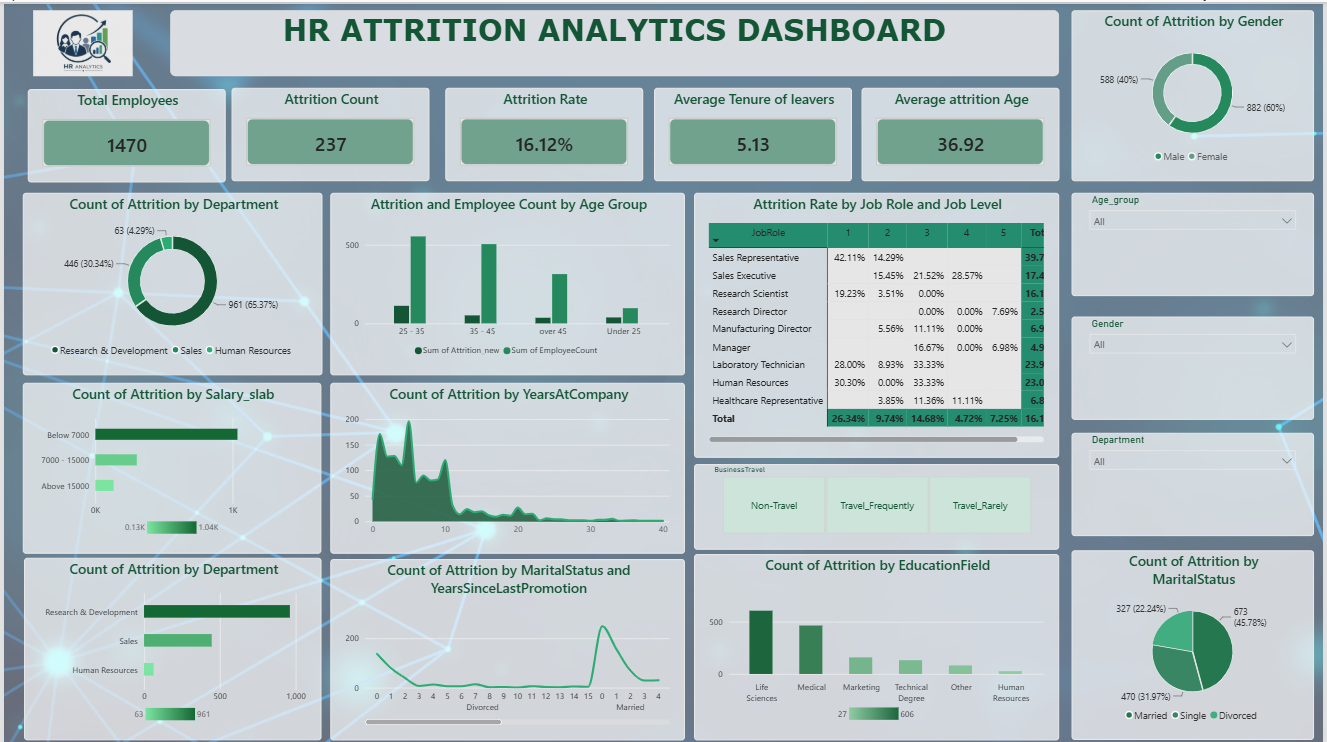

This screenshot's page, from the dashboard's own definition file:
{"tool":"powerbi","page":{"name":"Page 1","canvas":[1920,1080],"ordinal":0},"visuals":[{"type":"textbox","box":[241.8,9.1,1292.7,96.4],"z":0},{"type":"cardVisual","title":"Total Employees","fields":{"Data":["Sum(HR_Attrition.EmployeeCount)"]},"box":[35,123.6,288,136],"z":1000},{"type":"cardVisual","title":"Average Tenure of leavers","fields":{"Data":["HR_Attrition.Avg_tenure_of_leavers"]},"box":[945.5,121.8,288,136.4],"z":2000},{"type":"cardVisual","title":"Attrition Rate","fields":{"Data":["HR_Attrition.Attrition_rate"]},"box":[641.8,121.8,288,136.4],"z":3000},{"type":"cardVisual","title":"Attrition Count","fields":{"Data":["Sum(HR_Attrition.Attrition_new)"]},"box":[330.9,121.8,288,136.4],"z":4000},{"type":"donutChart","fields":{"Category":["HR_Attrition.Department"],"Y":["CountNonNull(HR_Attrition.Attrition)"]},"box":[27.3,274.5,436.4,265.5],"z":5000},{"type":"clusteredColumnChart","title":"Attrition and Employee Count by Age Group","fields":{"Category":["HR_Attrition.Age_group"],"Y":["Sum(HR_Attrition.Attrition_new)","Sum(HR_Attrition.EmployeeCount)"]},"box":[474.5,274.5,516.4,265.5],"z":6000},{"type":"cardVisual","title":"Average attrition Age","fields":{"Data":["Avg(HR_Attrition.Age)"]},"box":[1247.3,121.8,288,136.4],"z":7000},{"type":"donutChart","fields":{"Y":["CountNonNull(HR_Attrition.Attrition)"],"Category":["HR_Attrition.Gender"]},"box":[1552.7,9.1,352.7,249.1],"z":8000},{"type":"barChart","fields":{"Category":["HR_Attrition.Department"],"Y":["CountNonNull(HR_Attrition.Attrition)"]},"box":[29.1,805.5,432.7,265.5],"z":9000},{"type":"slicer","fields":{"Values":["HR_Attrition.Gender"]},"box":[1552.7,454.5,352.7,150],"z":10000},{"type":"slicer","fields":{"Values":["HR_Attrition.Age_group"]},"box":[1552.7,274.5,352.7,150],"z":11000},{"type":"pivotTable","title":"Attrition Rate by Job Role and  Job Level","fields":{"Values":["HR_Attrition.Attrition_rate"],"Rows":["HR_Attrition.JobRole"],"Columns":["HR_Attrition.JobLevel"]},"box":[1003.6,274.5,530.9,385.5],"z":12000},{"type":"slicer","fields":{"Values":["HR_Attrition.Department"]},"box":[1552.7,623.6,352.7,150],"z":13000},{"type":"image","box":[0,9.1,229.1,96.4],"z":14000},{"type":"barChart","fields":{"Category":["HR_Attrition.Salary_slab"],"Y":["CountNonNull(HR_Attrition.Attrition)"]},"box":[27.3,550.9,434.5,249.1],"z":15000},{"type":"areaChart","fields":{"Category":["HR_Attrition.YearsAtCompany"],"Y":["CountNonNull(HR_Attrition.Attrition)"]},"box":[474.5,550.9,516.4,249.1],"z":16000},{"type":"lineChart","fields":{"Category":["HR_Attrition.MaritalStatus","HR_Attrition.YearsSinceLastPromotion"],"Y":["CountNonNull(HR_Attrition.Attrition)"]},"box":[474.5,807.3,516.4,263.6],"z":17000},{"type":"columnChart","fields":{"Category":["HR_Attrition.EducationField"],"Y":["CountNonNull(HR_Attrition.Attrition)"]},"box":[1003.6,800,530.9,270.9],"z":18000},{"type":"slicer","fields":{"Values":["HR_Attrition.BusinessTravel"]},"box":[1003.6,669.1,530.9,125],"z":19000},{"type":"pieChart","fields":{"Category":["HR_Attrition.MaritalStatus"],"Y":["CountNonNull(HR_Attrition.Attrition)"]},"box":[1552.7,794.5,352.7,276.4],"z":20000}]}

Visuals, with their boxes in screenshot pixels (x1, y1, x2, y2), scaled from the page's 1920x1080 canvas onto the 1327x742 screenshot:
textbox: <box>167,6,1061,72</box>
"Total Employees" cardVisual: <box>24,85,223,178</box>
"Average Tenure of leavers" cardVisual: <box>653,84,853,177</box>
"Attrition Rate" cardVisual: <box>444,84,643,177</box>
"Attrition Count" cardVisual: <box>229,84,428,177</box>
donutChart - HR_Attrition.Department x CountNonNull(HR_Attrition.Attrition): <box>19,189,320,371</box>
"Attrition and Employee Count by Age Group" clusteredColumnChart: <box>328,189,685,371</box>
"Average attrition Age" cardVisual: <box>862,84,1061,177</box>
donutChart - CountNonNull(HR_Attrition.Attrition) x HR_Attrition.Gender: <box>1073,6,1317,177</box>
barChart - HR_Attrition.Department x CountNonNull(HR_Attrition.Attrition): <box>20,553,319,736</box>
slicer - HR_Attrition.Gender: <box>1073,312,1317,415</box>
slicer - HR_Attrition.Age_group: <box>1073,189,1317,292</box>
"Attrition Rate by Job Role and  Job Level" pivotTable: <box>694,189,1061,453</box>
slicer - HR_Attrition.Department: <box>1073,428,1317,531</box>
image: <box>0,6,158,72</box>
barChart - HR_Attrition.Salary_slab x CountNonNull(HR_Attrition.Attrition): <box>19,378,319,550</box>
areaChart - HR_Attrition.YearsAtCompany x CountNonNull(HR_Attrition.Attrition): <box>328,378,685,550</box>
lineChart - HR_Attrition.MaritalStatus x HR_Attrition.YearsSinceLastPromotion: <box>328,555,685,736</box>
columnChart - HR_Attrition.EducationField x CountNonNull(HR_Attrition.Attrition): <box>694,550,1061,736</box>
slicer - HR_Attrition.BusinessTravel: <box>694,460,1061,546</box>
pieChart - HR_Attrition.MaritalStatus x CountNonNull(HR_Attrition.Attrition): <box>1073,546,1317,736</box>
